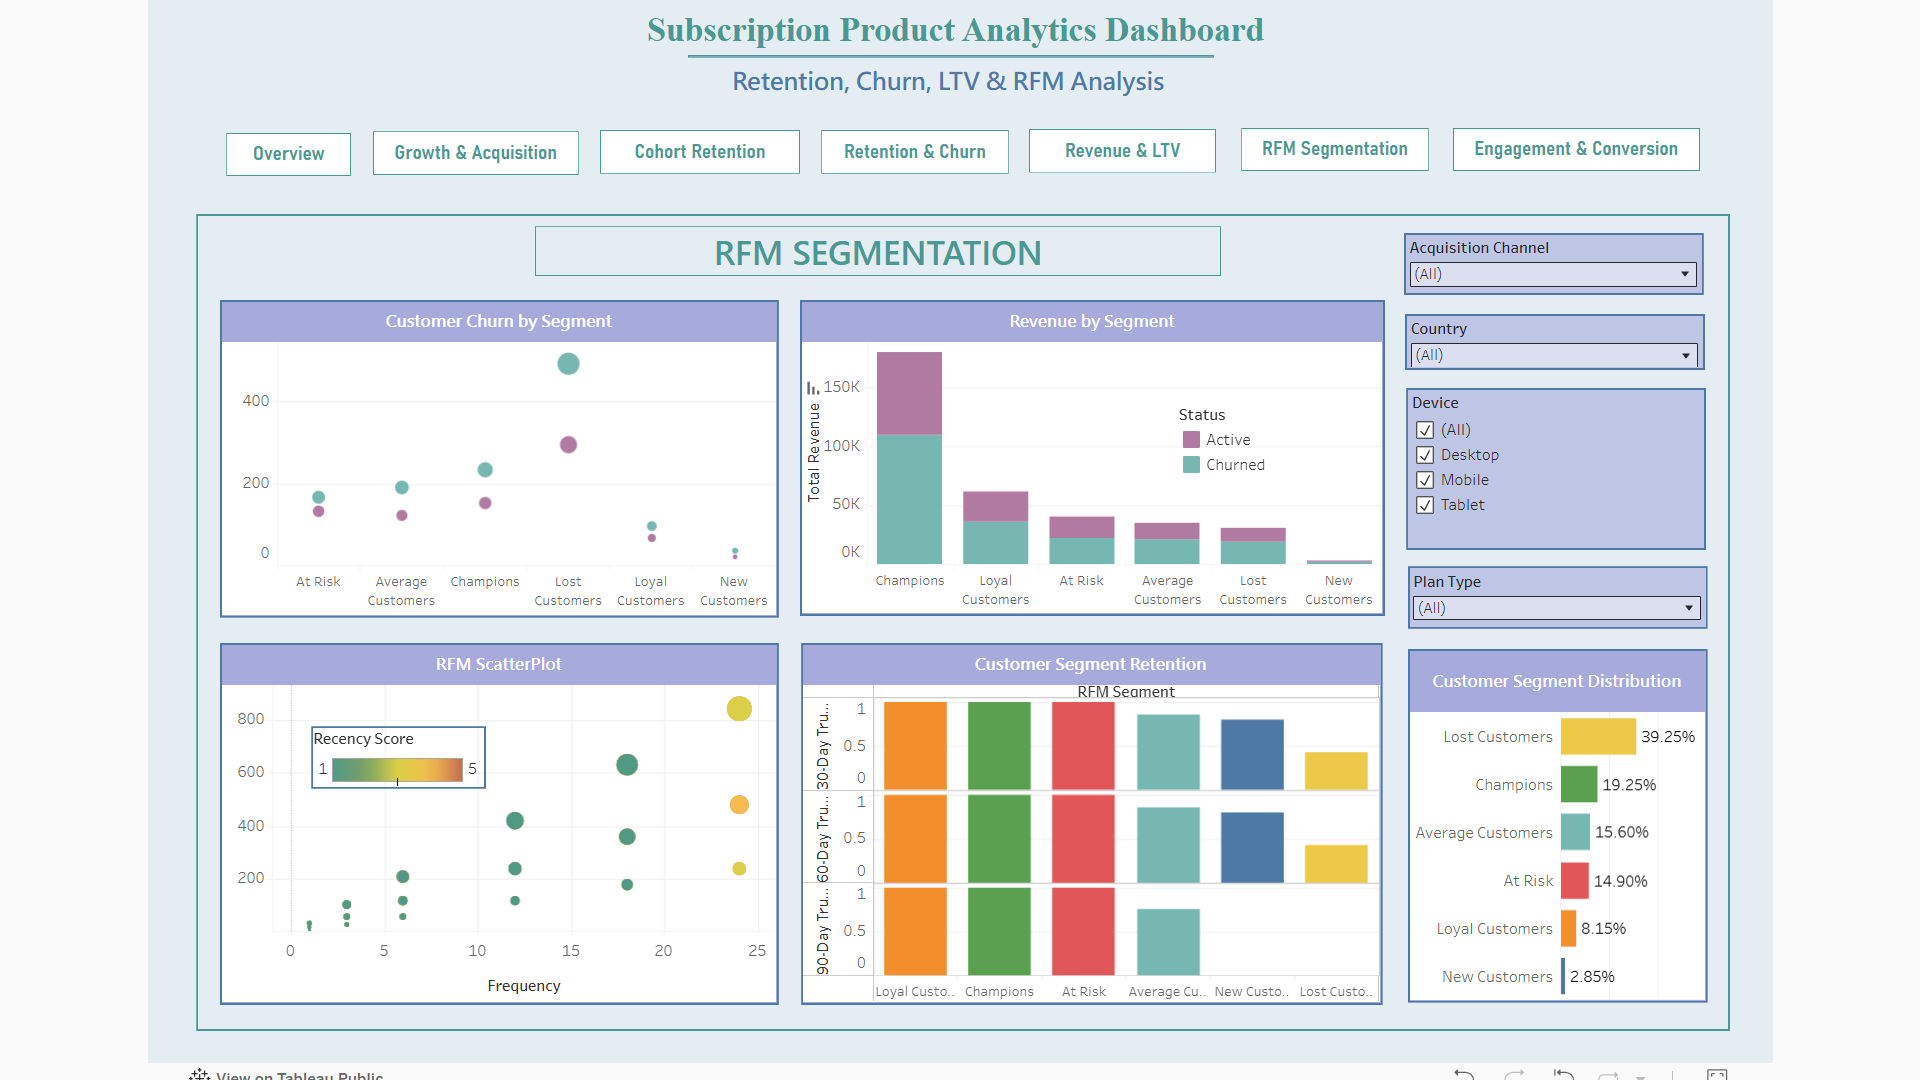

What the dashboard file says about the page in this screenshot:
{"tool":"tableau","page":{"name":"RFM Segmentation","canvas":[1300,850],"ordinal":4},"visuals":[{"type":"blank","box":[432,44,421,2]},{"type":"text","box":[347,50,587,28]},{"type":"blank","box":[56,99,1191,45]},{"type":"dashboard-object","box":[875,102,150,35]},{"type":"dashboard-object","box":[1044,102,198,35]},{"type":"dashboard-object","box":[705,103,150,35]},{"type":"dashboard-object","box":[362,104,160,35]},{"type":"dashboard-object","box":[539,104,150,35]},{"type":"dashboard-object","box":[180,105,165,35]},{"type":"dashboard-object","box":[63,106,100,35]},{"type":"blank","box":[39,171,1227,654]},{"type":"text","box":[310,181,549,40]},{"type":"filter","title":"Customer Segment Distribution","param":"[federated.1vvcbkb1517lao19svhhh0a2soji].[none:Acquisition_Channel:nk]","box":[1005,186,240,50]},{"type":"worksheet","title":"Customer Churn by Segment","mark":"Shape","rows":["Calculation_1112952098143047680"],"cols":["Calculation_1112952098497064996"],"box":[58,240,447,254]},{"type":"worksheet","title":"Revenue by Segment","mark":"Automatic","rows":["Calculation_1112952098143449089"],"cols":["Calculation_1112952098497064996"],"box":[522,240,468,253]},{"type":"filter","title":"Customer Segment Distribution","param":"[federated.1vvcbkb1517lao19svhhh0a2soji].[none:Country:nk]","box":[1006,251,240,45]},{"type":"filter","title":"Customer Segment Distribution","param":"[federated.1vvcbkb1517lao19svhhh0a2soji].[none:Device:nk]","box":[1007,310,240,130]},{"type":"legend","title":"Revenue by Segment","param":"[federated.1vvcbkb1517lao19svhhh0a2soji].[none:Status:nk]","box":[825,323,140,64]},{"type":"filter","title":"Customer Segment Distribution","param":"[federated.1vvcbkb1517lao19svhhh0a2soji].[none:Plan_Type:nk]","box":[1008,453,240,50]},{"type":"worksheet","title":"RFM ScatterPlot","mark":"Automatic","rows":["Calculation_1112952098493595678"],"cols":["Calculation_1112952098493493277"],"box":[58,514,447,290]},{"type":"worksheet","title":"Customer Segment Retention","mark":"Automatic","rows":["Calculation_1112952098748448819","Calculation_1112952098748743732","Calculation_1112952098750890037"],"cols":["Calculation_1112952098497064996"],"box":[523,514,465,290]},{"type":"worksheet","title":"Customer Segment Distribution","mark":"Automatic","rows":["Calculation_1112952098497064996"],"cols":["Calculation_1112952098143047680"],"box":[1008,519,240,283]},{"type":"legend","title":"RFM ScatterPlot","param":"[federated.1vvcbkb1517lao19svhhh0a2soji].[none:Calculation_1112952098493816863:q","box":[131,581,140,50]}]}

Visuals, with their boxes on the page's 1300x850 design canvas (x1, y1, x2, y2). These are canvas units, not pixel positions in the 1920x1080 screenshot, which may show the page scaled, cropped or inside an application window:
blank: [x1=432, y1=44, x2=853, y2=46]
text: [x1=347, y1=50, x2=934, y2=78]
blank: [x1=56, y1=99, x2=1247, y2=144]
dashboard-object: [x1=875, y1=102, x2=1025, y2=137]
dashboard-object: [x1=1044, y1=102, x2=1242, y2=137]
dashboard-object: [x1=705, y1=103, x2=855, y2=138]
dashboard-object: [x1=362, y1=104, x2=522, y2=139]
dashboard-object: [x1=539, y1=104, x2=689, y2=139]
dashboard-object: [x1=180, y1=105, x2=345, y2=140]
dashboard-object: [x1=63, y1=106, x2=163, y2=141]
blank: [x1=39, y1=171, x2=1266, y2=825]
text: [x1=310, y1=181, x2=859, y2=221]
"Customer Segment Distribution" filter: [x1=1005, y1=186, x2=1245, y2=236]
"Customer Churn by Segment" worksheet (Shape marks): [x1=58, y1=240, x2=505, y2=494]
"Revenue by Segment" worksheet: [x1=522, y1=240, x2=990, y2=493]
"Customer Segment Distribution" filter: [x1=1006, y1=251, x2=1246, y2=296]
"Customer Segment Distribution" filter: [x1=1007, y1=310, x2=1247, y2=440]
"Revenue by Segment" legend: [x1=825, y1=323, x2=965, y2=387]
"Customer Segment Distribution" filter: [x1=1008, y1=453, x2=1248, y2=503]
"RFM ScatterPlot" worksheet: [x1=58, y1=514, x2=505, y2=804]
"Customer Segment Retention" worksheet: [x1=523, y1=514, x2=988, y2=804]
"Customer Segment Distribution" worksheet: [x1=1008, y1=519, x2=1248, y2=802]
"RFM ScatterPlot" legend: [x1=131, y1=581, x2=271, y2=631]
